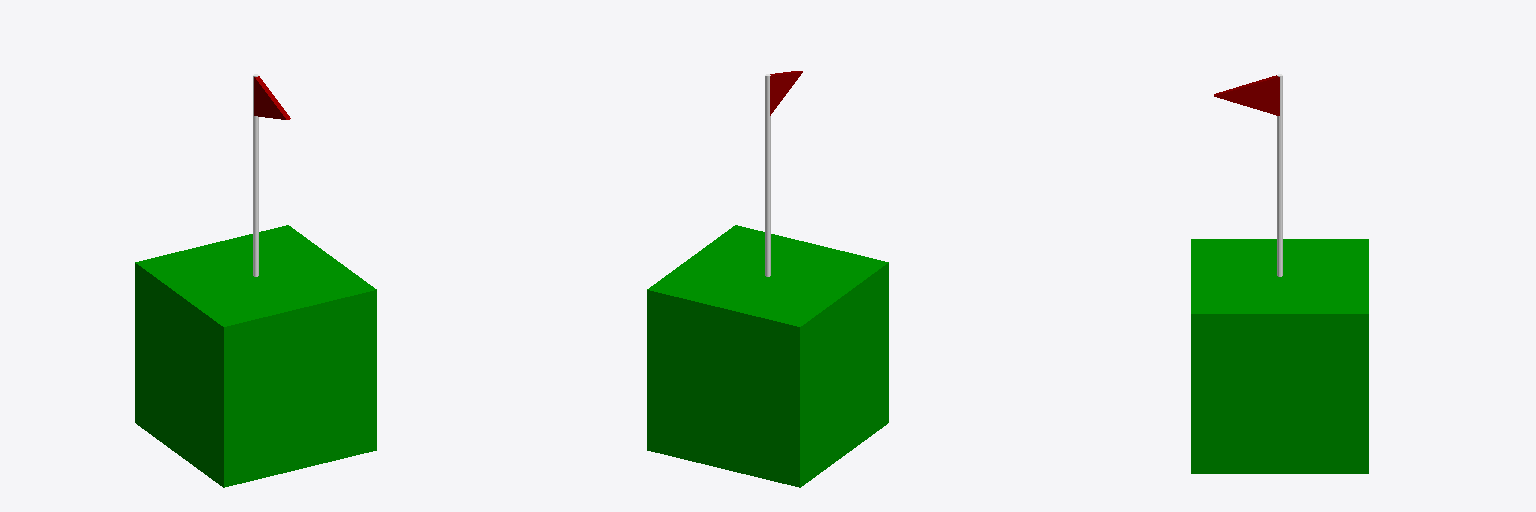
The model's file is NewRedFlag.obj.
The picture shows the model from 3 angles: view 1: azimuth 30°, elevation 25°; view 2: azimuth 150°, elevation 25°; view 3: azimuth 270°, elevation 25°; orthographic projection.
Parts seen in each view (by area): view 1: Cube; view 2: Cube; view 3: Cube.
Boxes of the visible parts, x1=… form: Cube: x1=135, y1=74, x2=376, y2=487; Cube: x1=647, y1=71, x2=888, y2=487; Cube: x1=1191, y1=74, x2=1368, y2=473.
Size of the model in its own units: 2 by 4.5 by 2.